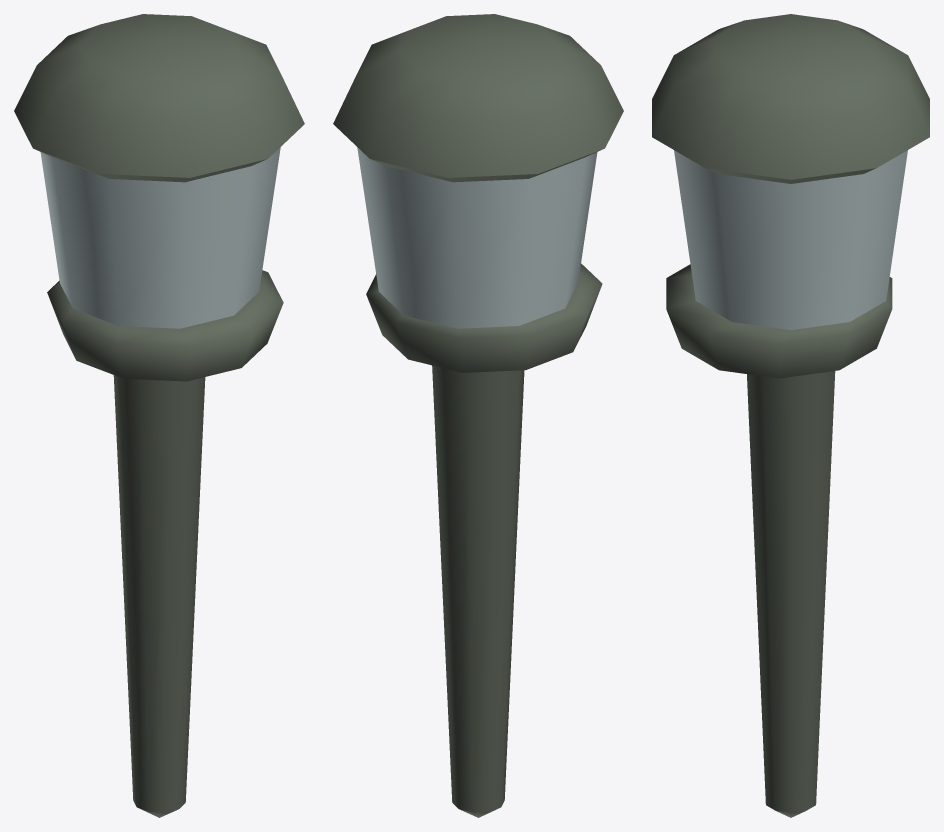
File: SM_GardenLamp.FBX
The picture shows the model from 3 angles, left to right: view 1: azimuth 30°, elevation 25°; view 2: azimuth 150°, elevation 25°; view 3: azimuth 270°, elevation 25°; orthographic projection.
Visible parts, largest first — view 1: GardenLamp; view 2: GardenLamp; view 3: GardenLamp.
Boxes of the visible parts, bbox=[...] form: GardenLamp: bbox=[14, 14, 304, 817]; GardenLamp: bbox=[333, 14, 623, 817]; GardenLamp: bbox=[652, 14, 929, 817].
Size of the model in its own units: 18.76 by 55 by 17.84.
Materials: 1 (1 with a texture image).
